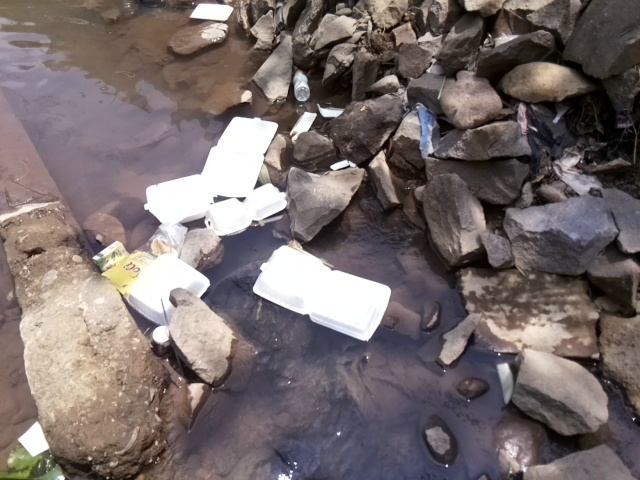Sampah_Botol_Plastik: (293, 66, 312, 106)
Sampah_Styrofoam: (144, 112, 287, 238), (250, 243, 394, 343), (120, 250, 215, 328), (188, 1, 235, 24)
